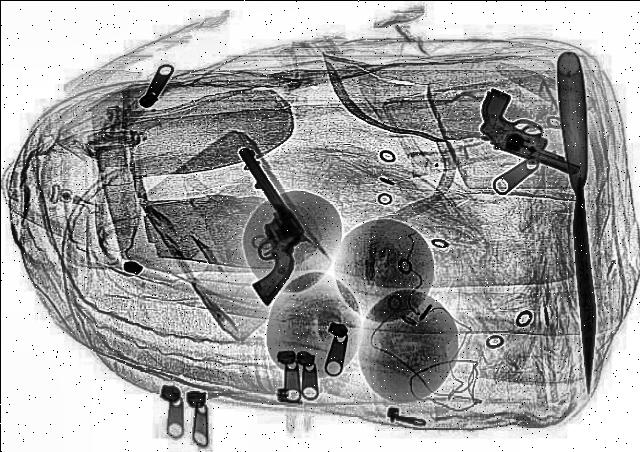Gun: (170, 147, 344, 306), (452, 88, 614, 178)
Knife: (554, 50, 606, 394)
